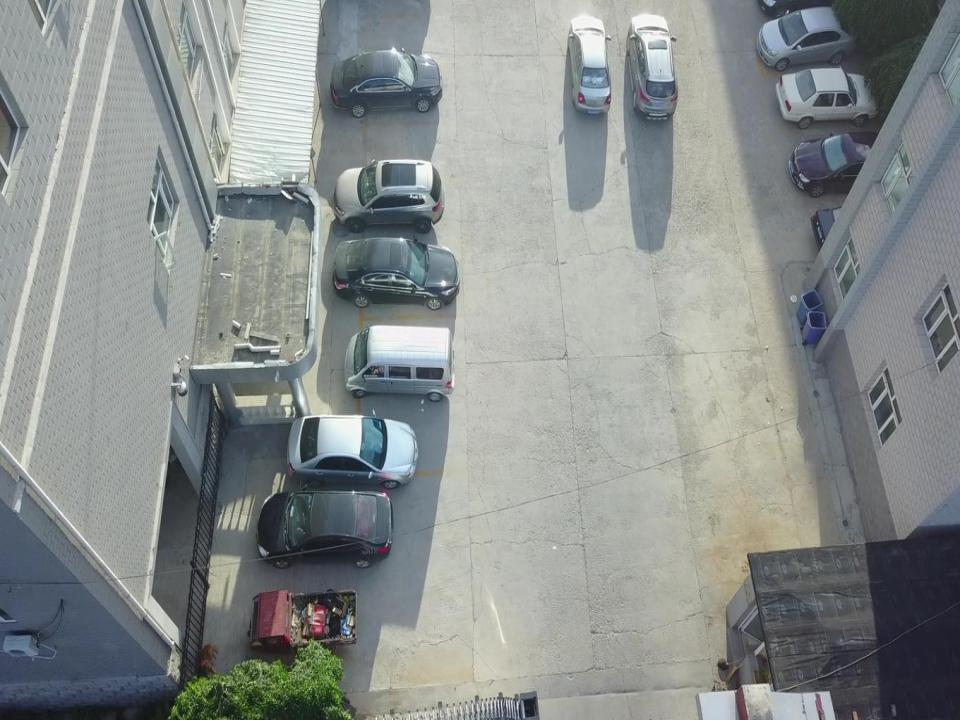car: (255, 488, 392, 566), (331, 234, 460, 312), (286, 413, 418, 489), (332, 159, 444, 234), (327, 47, 442, 116), (786, 130, 888, 198), (756, 8, 858, 68), (776, 68, 879, 126), (626, 14, 678, 122), (567, 14, 611, 113), (810, 205, 864, 248)
van: (343, 323, 455, 404)
